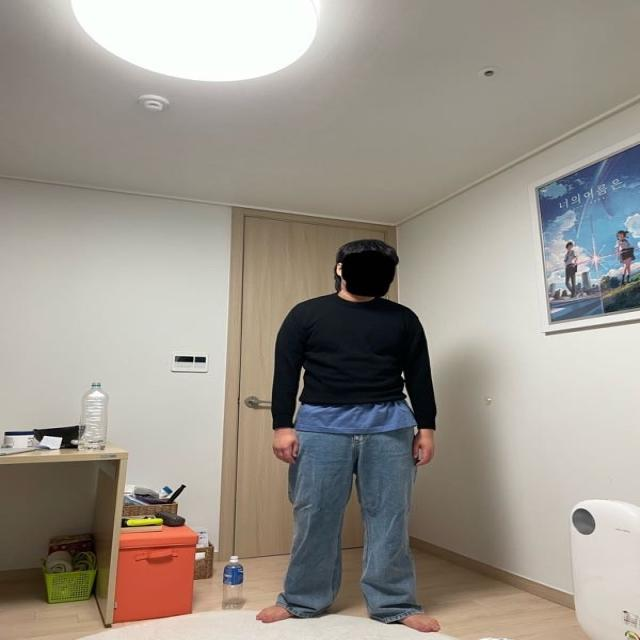denimpants: (284, 430, 426, 624)
longsleeve: (268, 298, 434, 440)
